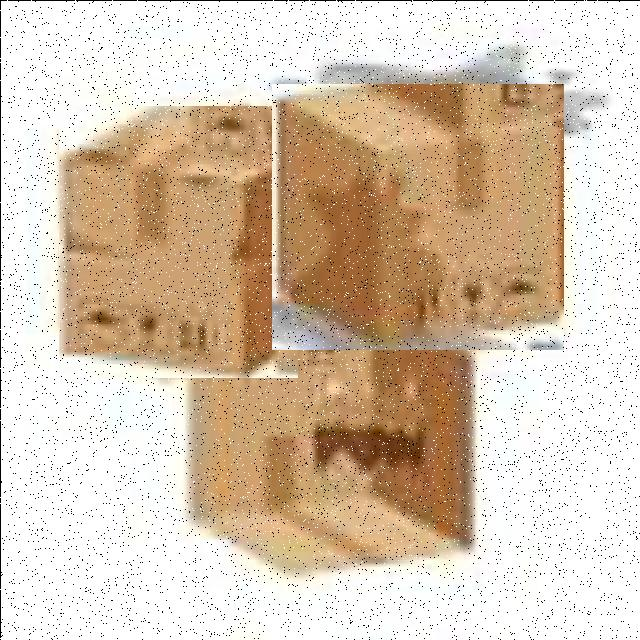defect: (183, 306, 480, 586), (58, 105, 297, 377)
normal: (271, 83, 563, 349)
